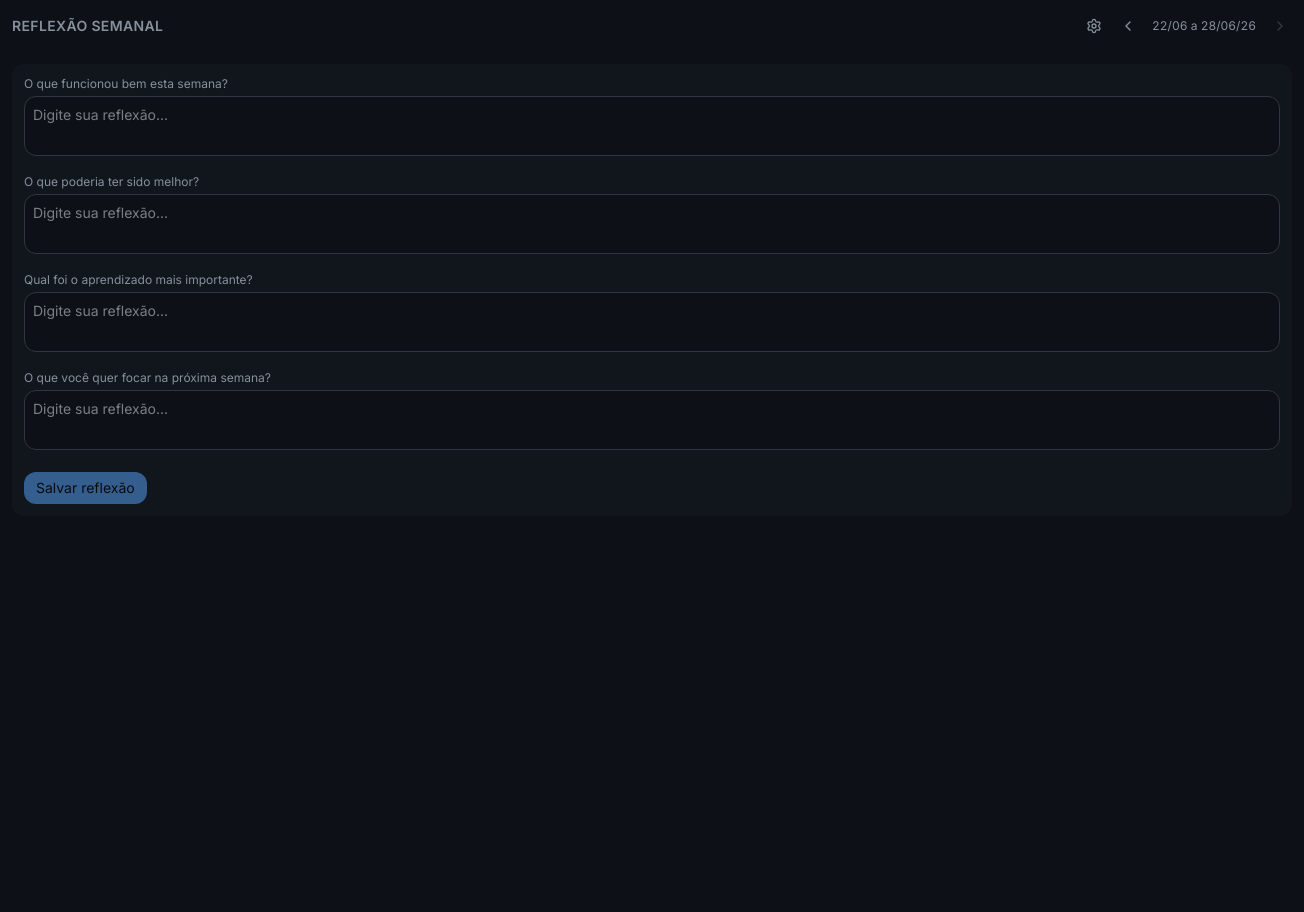
Test: ReflexaoTab › abre painel de gerenciar perguntas ao clicar no gear
Check: the text "O que funcionou bem esta semana?" is shown, box [24,76,228,91]
What coordinates should you click on to do the following:
click the button titled "Gerenciar perguntas"
I would click on:
 (1094, 26)
Its box is [1080,12,1108,40].
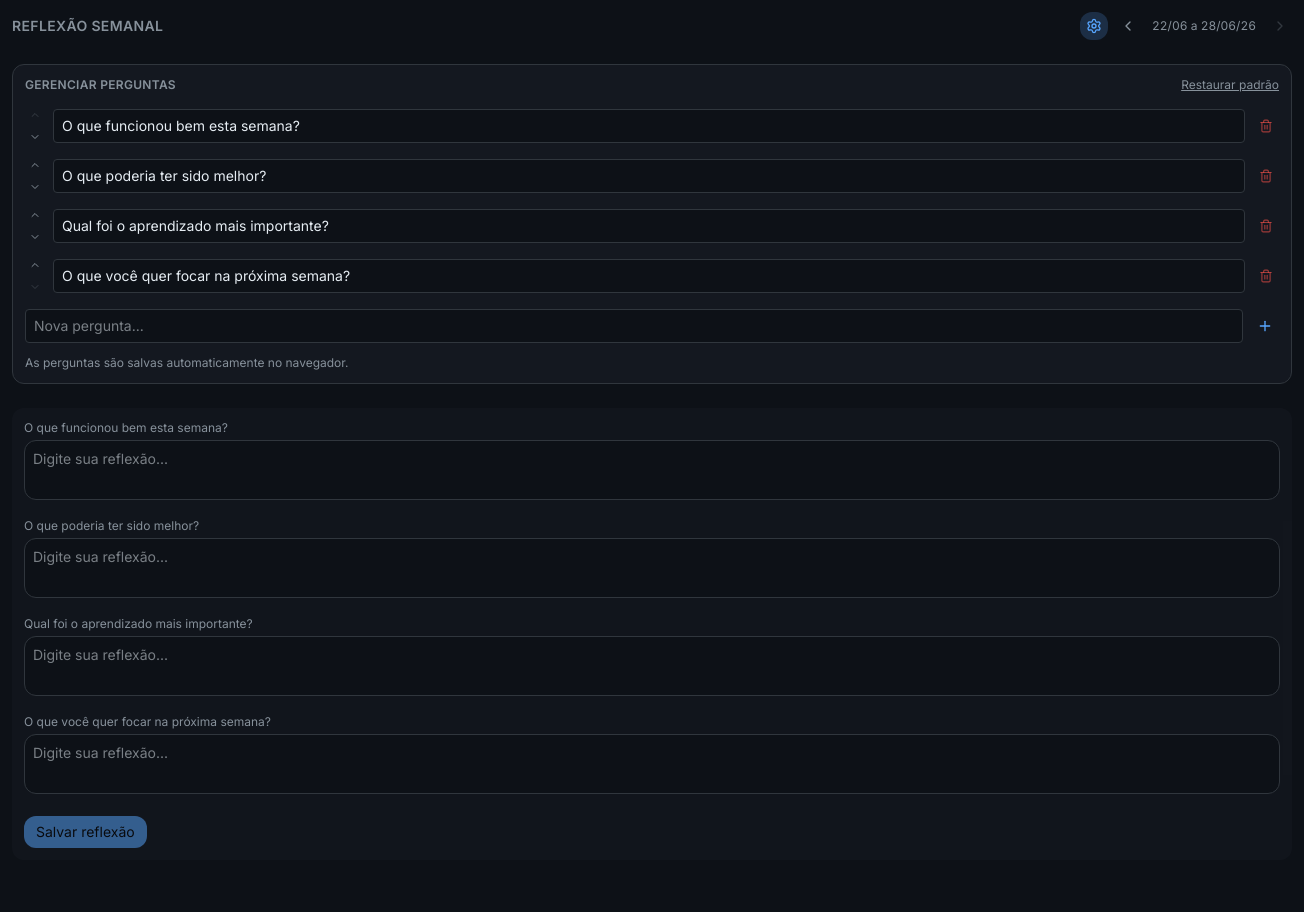
Check: the heading "Gerenciar Perguntas" is shown, box [25,77,176,93]
Check: the button "Restaurar padrão" is shown, box [1181,77,1279,93]
